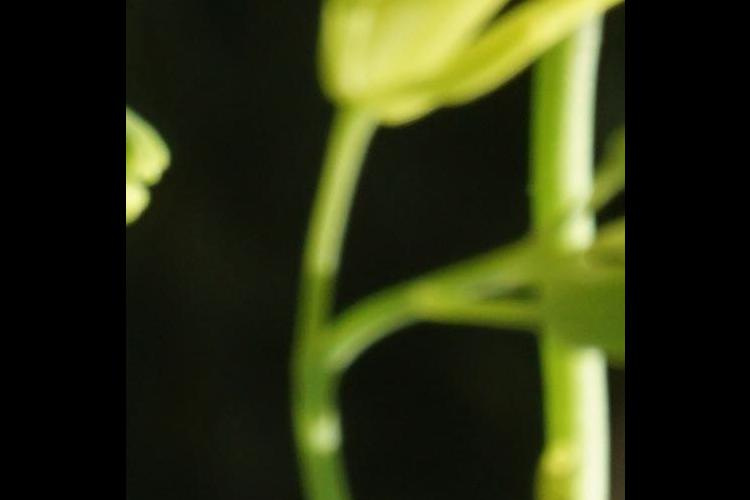yellow: (306, 1, 622, 126)
